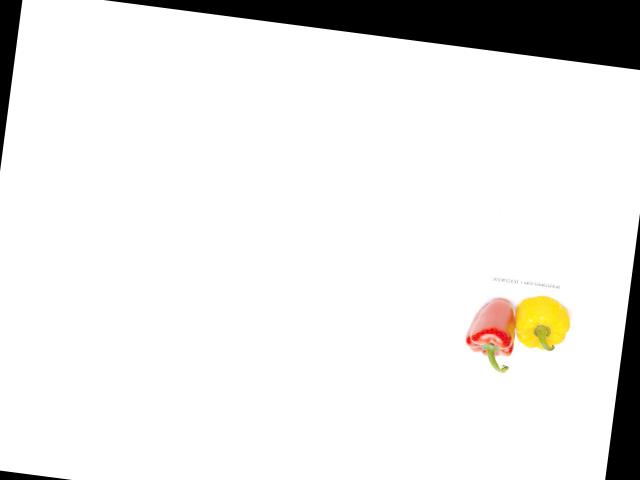bell_pepper: (508, 287, 576, 358)
